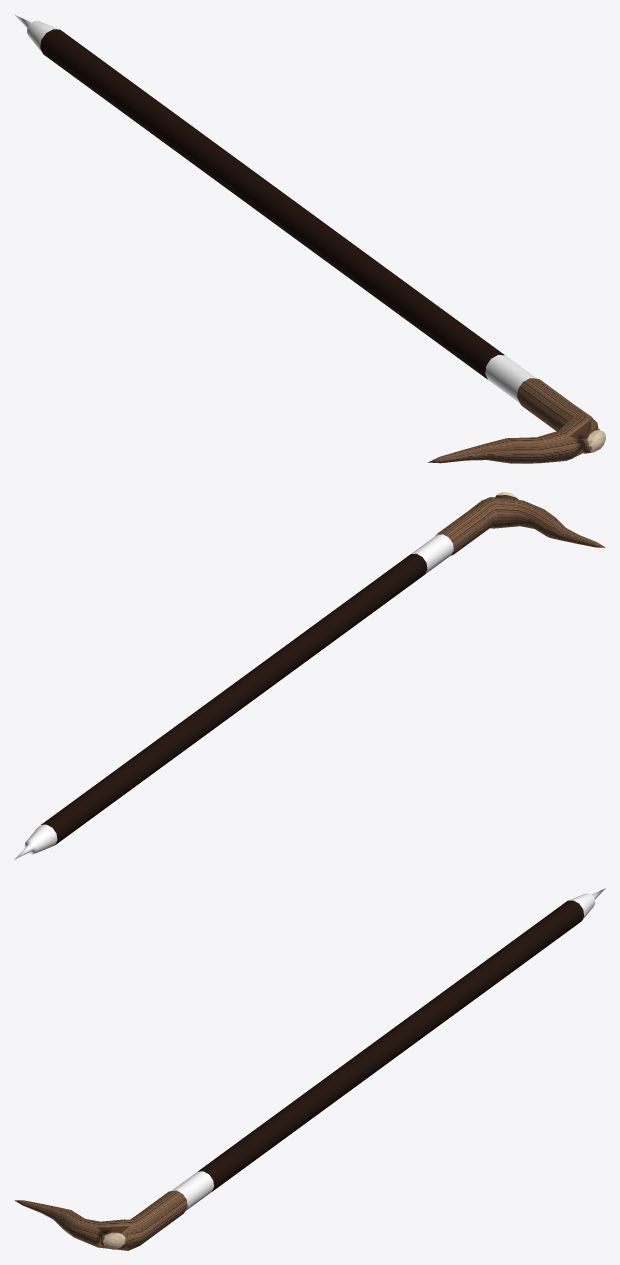
The model's file is walkingstick.glb.
The picture shows the model from 3 angles, top to bottom: view 1: azimuth 30°, elevation 25°; view 2: azimuth 150°, elevation 25°; view 3: azimuth 330°, elevation 25°; orthographic projection. The views are drawn at different scales.
Parts seen in each view (by area): view 1: walkingstick; view 2: walkingstick; view 3: walkingstick.
Part boxes in pixels (x1,y1,x2,y2): walkingstick: [14, 14, 605, 463]; walkingstick: [14, 492, 605, 859]; walkingstick: [14, 888, 605, 1250].
Bounding box in the file's own units: 0.3086 × 0.0623 × 1.94.
Materials: 4 (1 with a texture image).
